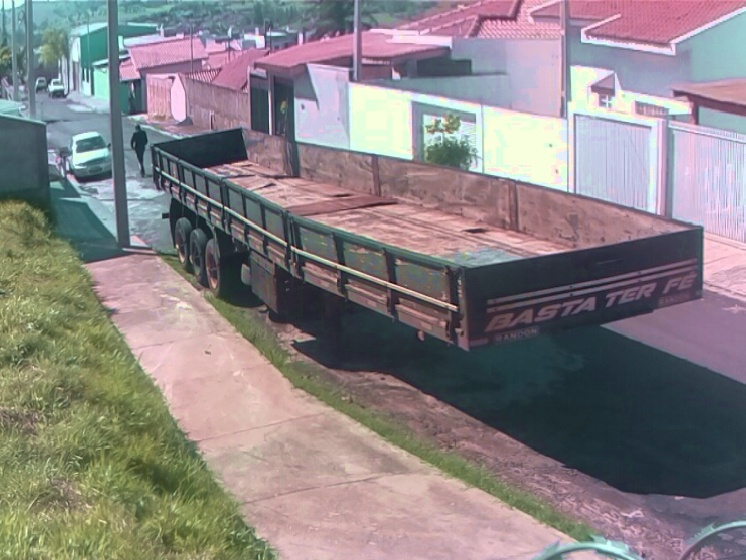person: (128, 120, 153, 182)
